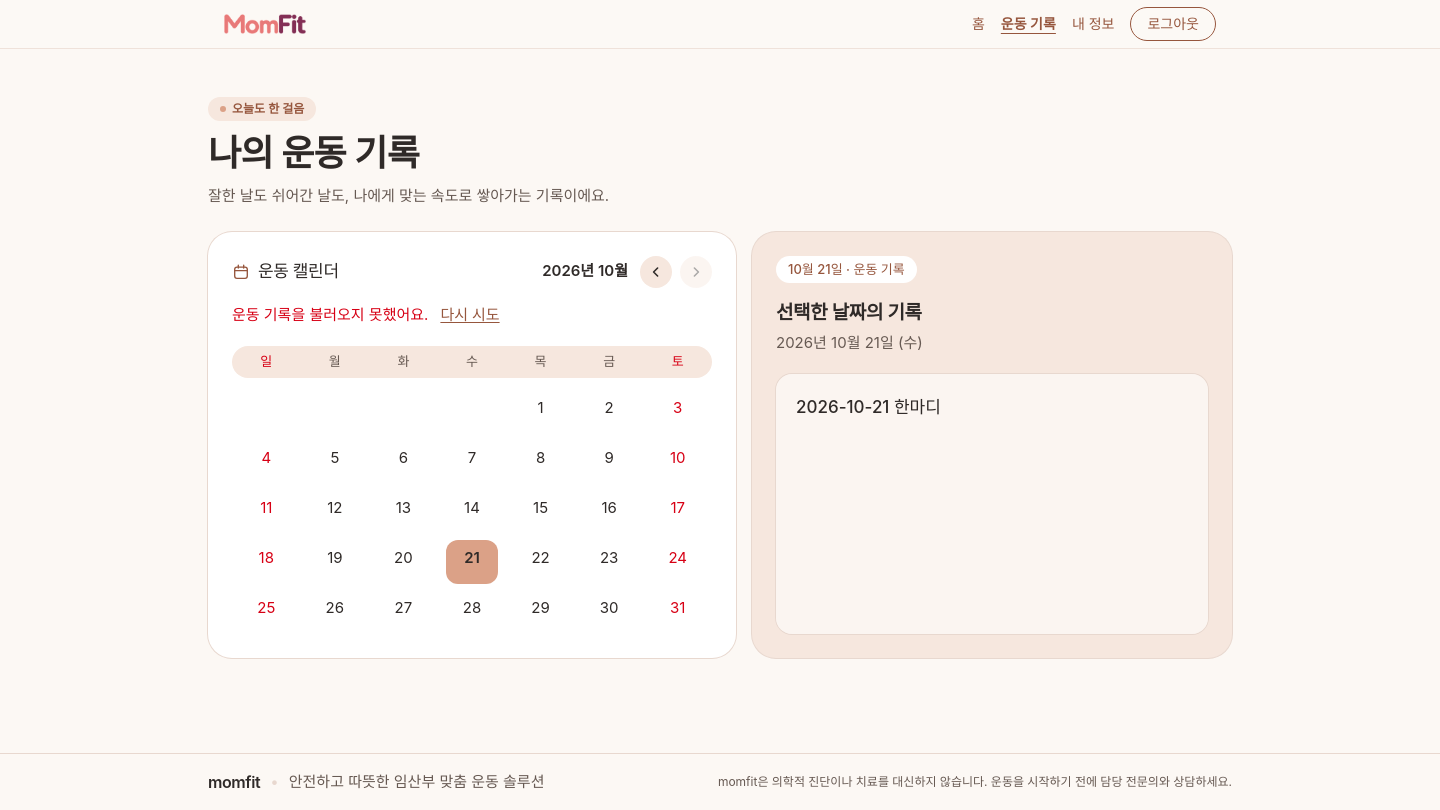
Scenario: RecordsPage › 기록을 불러오지 못하면 안내하고 다시 시도할 수 있다
This screenshot has width=1440, height=810.
Check: the message shows "운동 기록을 불러오지 못했어요.", box [232,304,428,324]
Click the button "다시 시도".
click(470, 315)  # box [440,304,500,326]
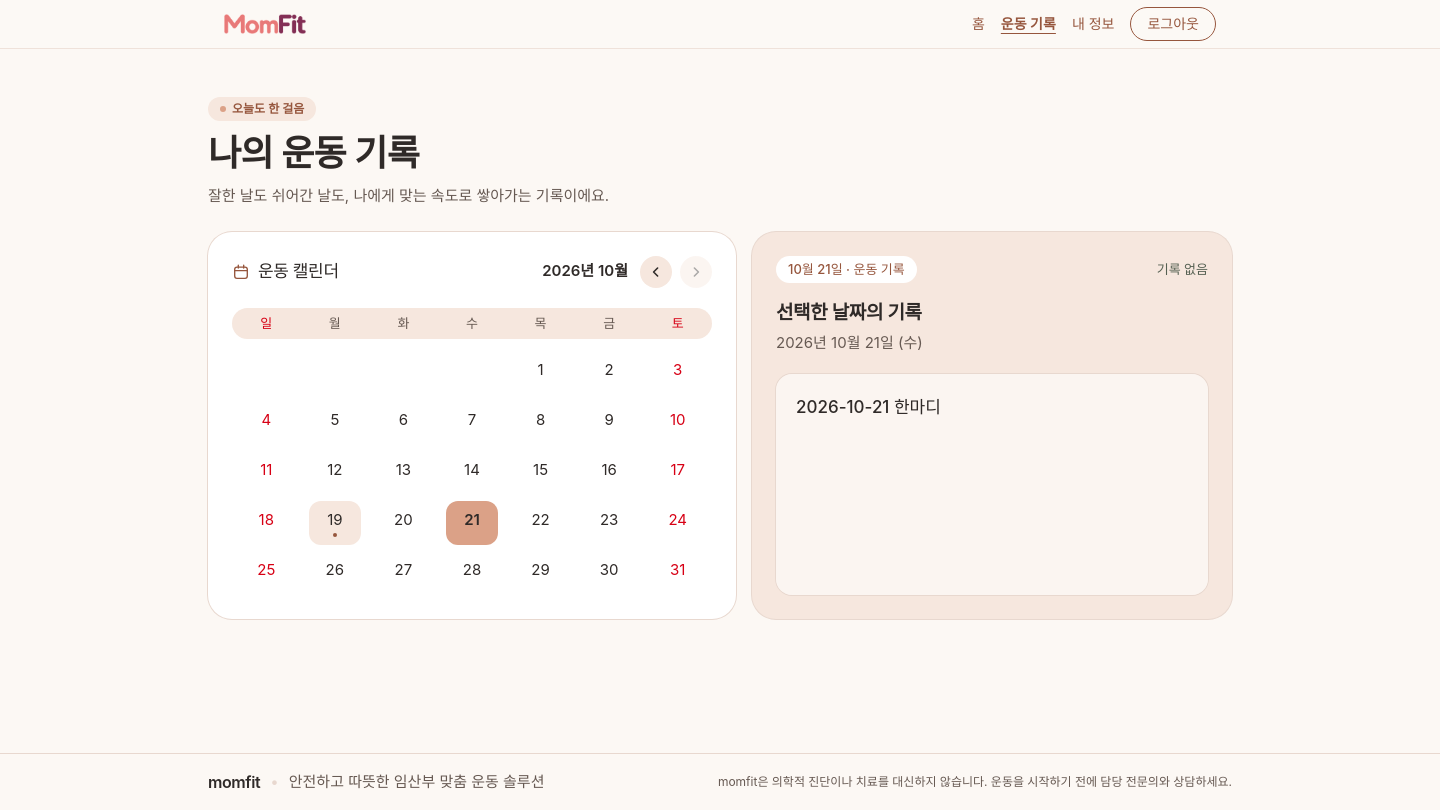
Check: the button named "10월 19일 월요일, 운동 기록 있음" is shown, box [309,501,361,545]
Check: the message "운동 기록을 불러오지 못했어요. 다시 시도" is gone
